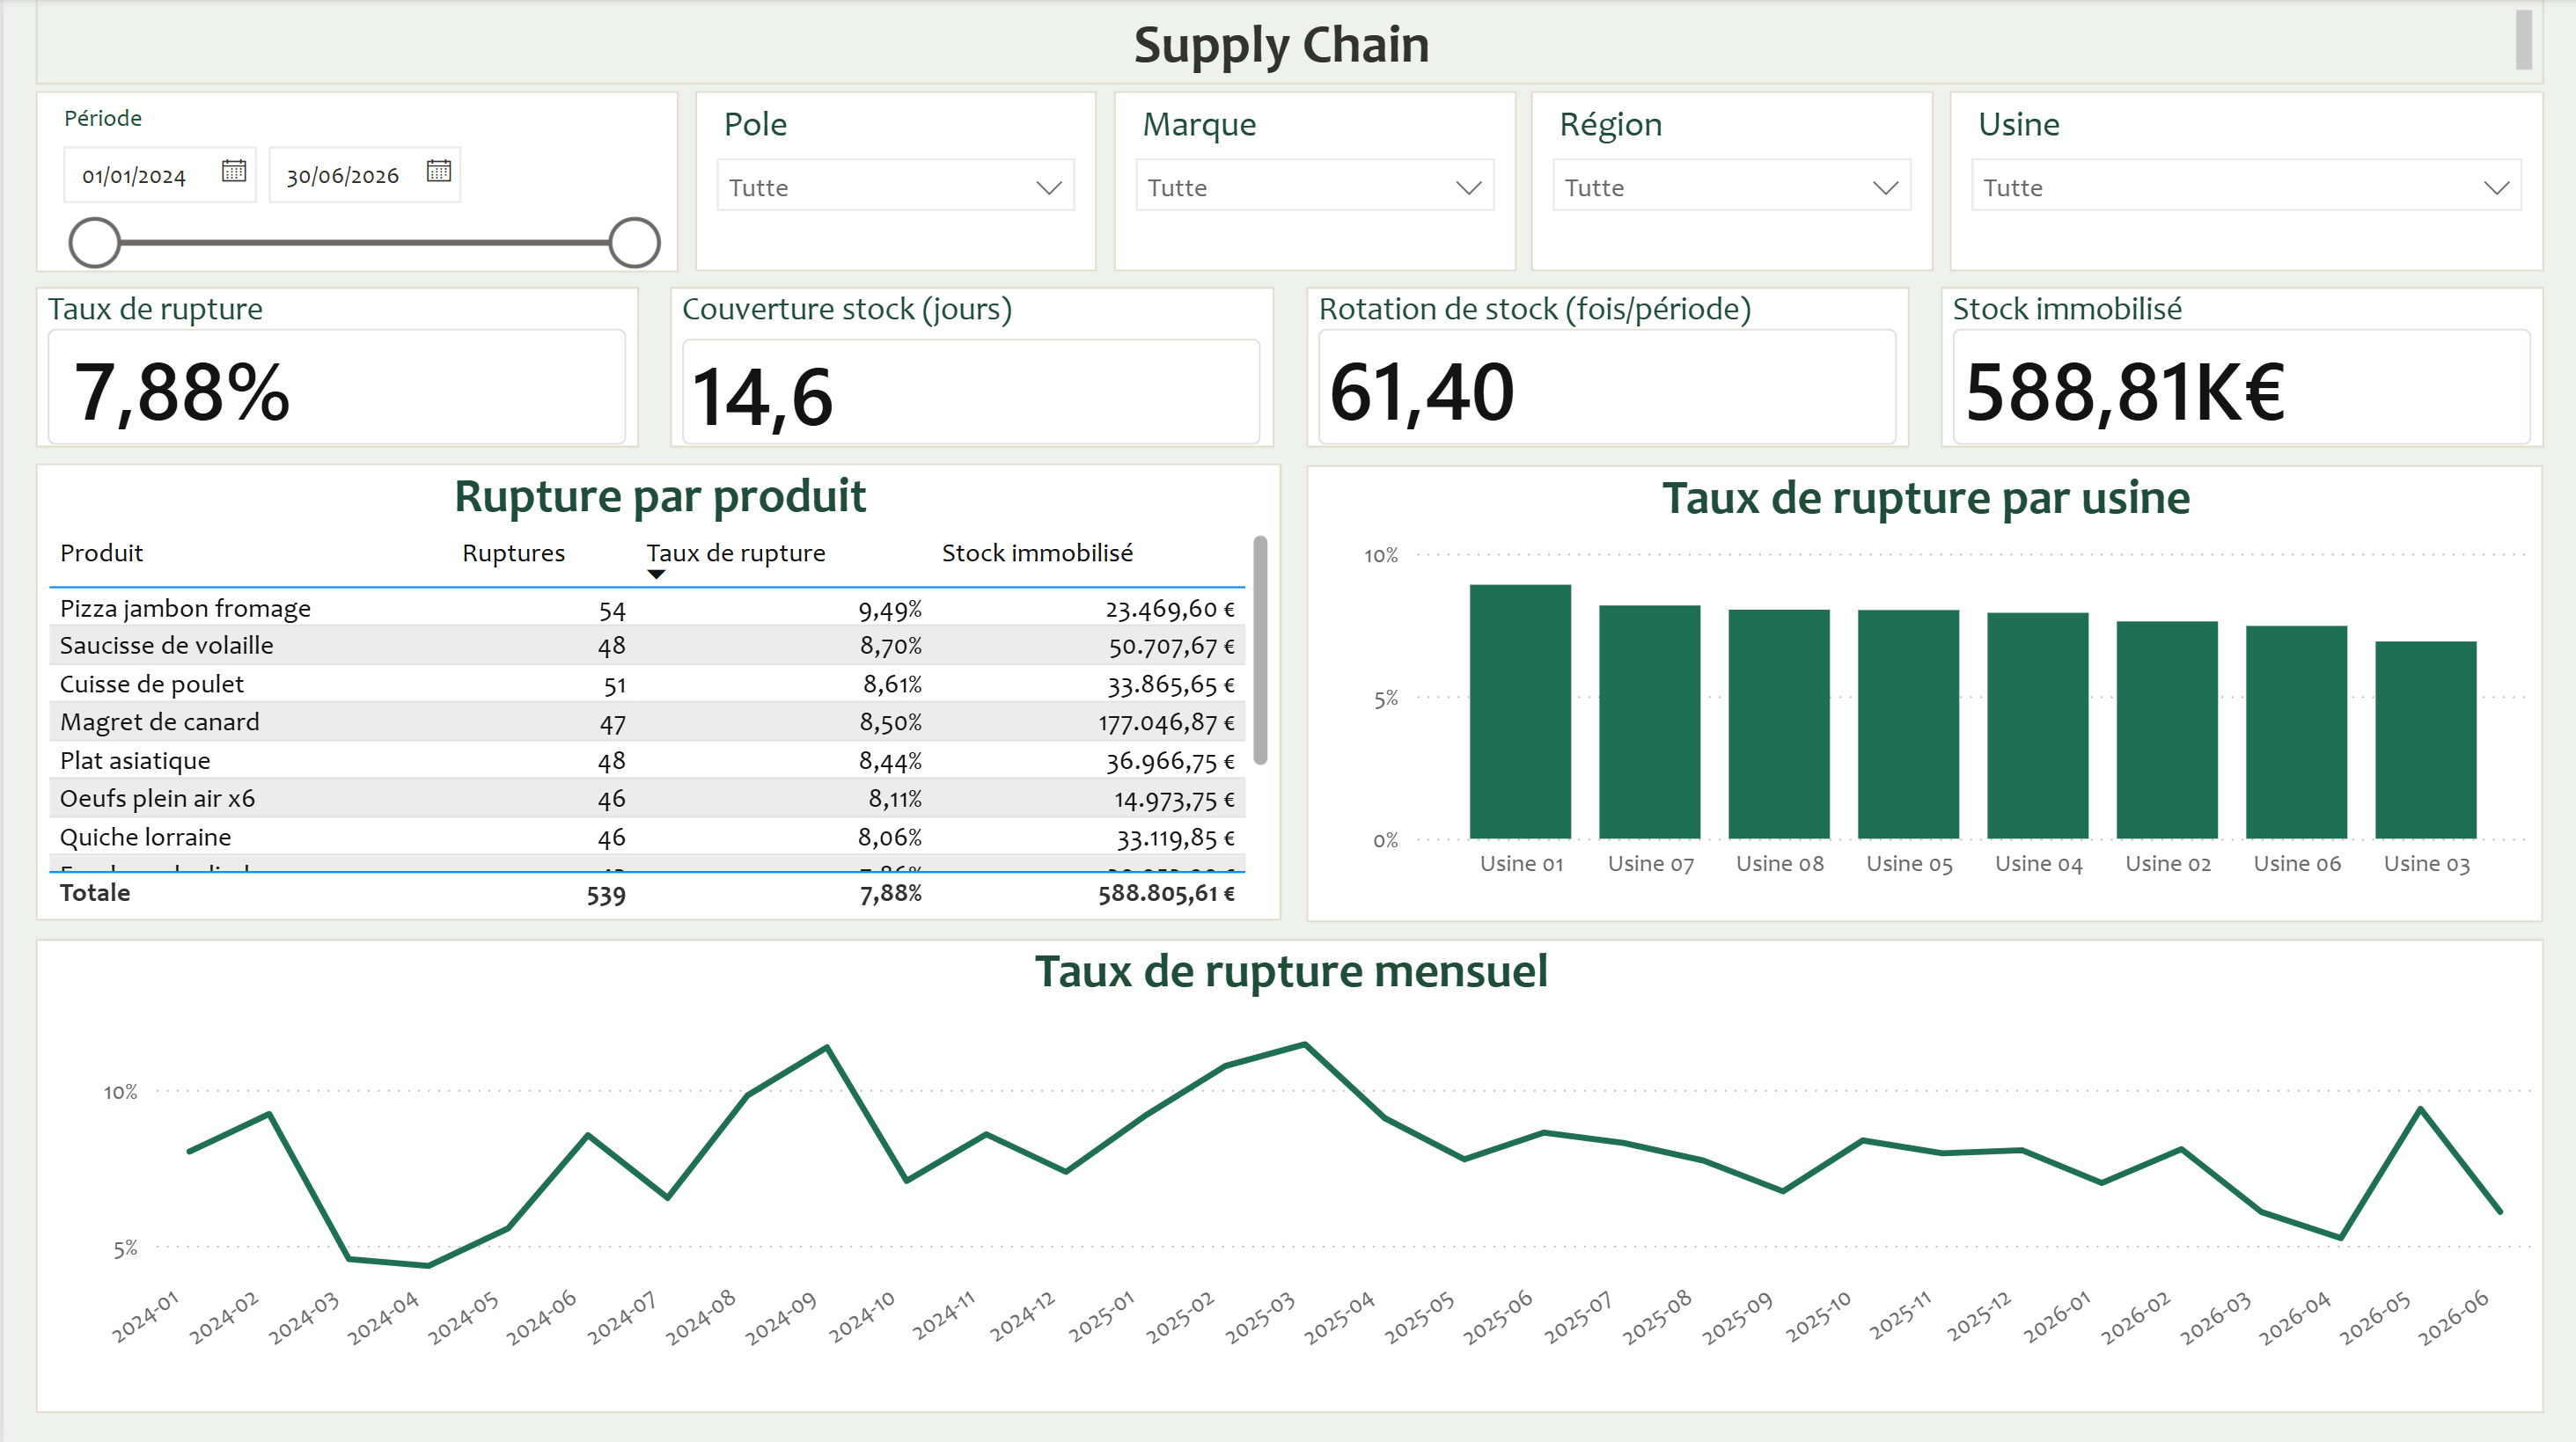

The dashboard page shown, as its layout file describes it:
{"tool":"powerbi","page":{"name":"Supply Chain","canvas":[1280,720],"ordinal":1},"visuals":[{"type":"textbox","box":[16,0,1248,43],"z":1000},{"type":"slicer","fields":{"Values":["dim_date.Date"]},"box":[16,46.1,320,90.4],"z":2000},{"type":"slicer","fields":{"Values":["dim_produit.pole"]},"box":[344,46,200,90],"z":3000},{"type":"slicer","fields":{"Values":["dim_produit.marque"]},"box":[552,46,200.4,90],"z":4000},{"type":"slicer","fields":{"Values":["dim_usine.region"]},"box":[760,46,200.4,90],"z":5000},{"type":"slicer","fields":{"Values":["dim_usine.nom_usine"]},"box":[968,46,296,90],"z":6000},{"type":"cardVisual","title":"Taux de rupture","fields":{"Data":["_Mesures.Taux de Rupture %"]},"box":[16,143.6,300,80],"z":7000},{"type":"cardVisual","title":"Couverture stock (jours)","fields":{"Data":["_Mesures.Couverture Stock (jours)"]},"box":[332,144,300.6,80],"z":8000},{"type":"cardVisual","title":"Rotation de stock (fois/période)","fields":{"Data":["_Mesures.Rotation de Stock"]},"box":[648,144,300,80],"z":9000},{"type":"cardVisual","title":"Stock immobilisé","fields":{"Data":["_Mesures.Valeur Stock"]},"box":[964,144,300,80],"z":10000},{"type":"lineChart","title":"Taux de rupture mensuel","fields":{"Category":["dim_date.Année-Mois"],"Y":["_Mesures.Taux de Rupture %"]},"box":[16,468,1248,236],"z":11000},{"type":"columnChart","title":"Taux de rupture par usine","fields":{"Category":["dim_usine.nom_usine"],"Y":["_Mesures.Taux de Rupture %"]},"box":[648.1,232.3,615.3,227.8],"z":12000},{"type":"tableEx","title":"Rupture par produit","fields":{"Values":["dim_produit.libelle","_Mesures.Nb Ruptures","_Mesures.Taux de Rupture %","_Mesures.Valeur Stock"]},"box":[16,231.4,619.7,227.8],"z":13000}]}

Visuals, with their boxes in screenshot pixels (x1, y1, x2, y2), scaled from the page's 1280x720 canvas onto the 2576x1442 screenshot:
textbox: pyautogui.locateOnScreen(33, 0, 2543, 86)
slicer - dim_date.Date: pyautogui.locateOnScreen(33, 92, 676, 274)
slicer - dim_produit.pole: pyautogui.locateOnScreen(693, 92, 1095, 273)
slicer - dim_produit.marque: pyautogui.locateOnScreen(1111, 92, 1515, 273)
slicer - dim_usine.region: pyautogui.locateOnScreen(1530, 92, 1933, 273)
slicer - dim_usine.nom_usine: pyautogui.locateOnScreen(1949, 92, 2543, 273)
"Taux de rupture" cardVisual: pyautogui.locateOnScreen(33, 288, 636, 448)
"Couverture stock (jours)" cardVisual: pyautogui.locateOnScreen(668, 289, 1273, 449)
"Rotation de stock (fois/période)" cardVisual: pyautogui.locateOnScreen(1304, 289, 1908, 449)
"Stock immobilisé" cardVisual: pyautogui.locateOnScreen(1940, 289, 2543, 449)
"Taux de rupture mensuel" lineChart: pyautogui.locateOnScreen(33, 937, 2543, 1410)
"Taux de rupture par usine" columnChart: pyautogui.locateOnScreen(1304, 465, 2543, 921)
"Rupture par produit" tableEx: pyautogui.locateOnScreen(33, 464, 1280, 919)
